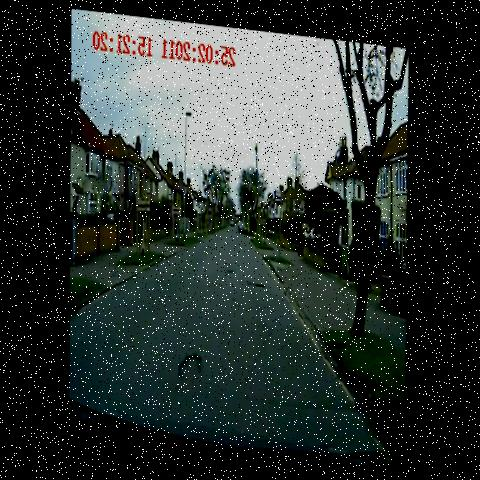pothole: (177, 335, 210, 397), (242, 263, 271, 293), (220, 255, 241, 275)
